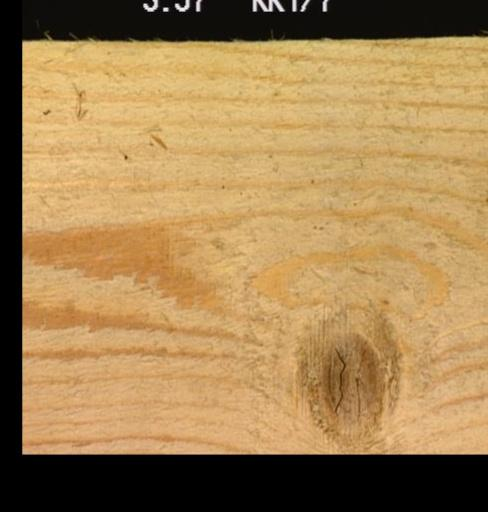sound_knot: (299, 315, 401, 445)
